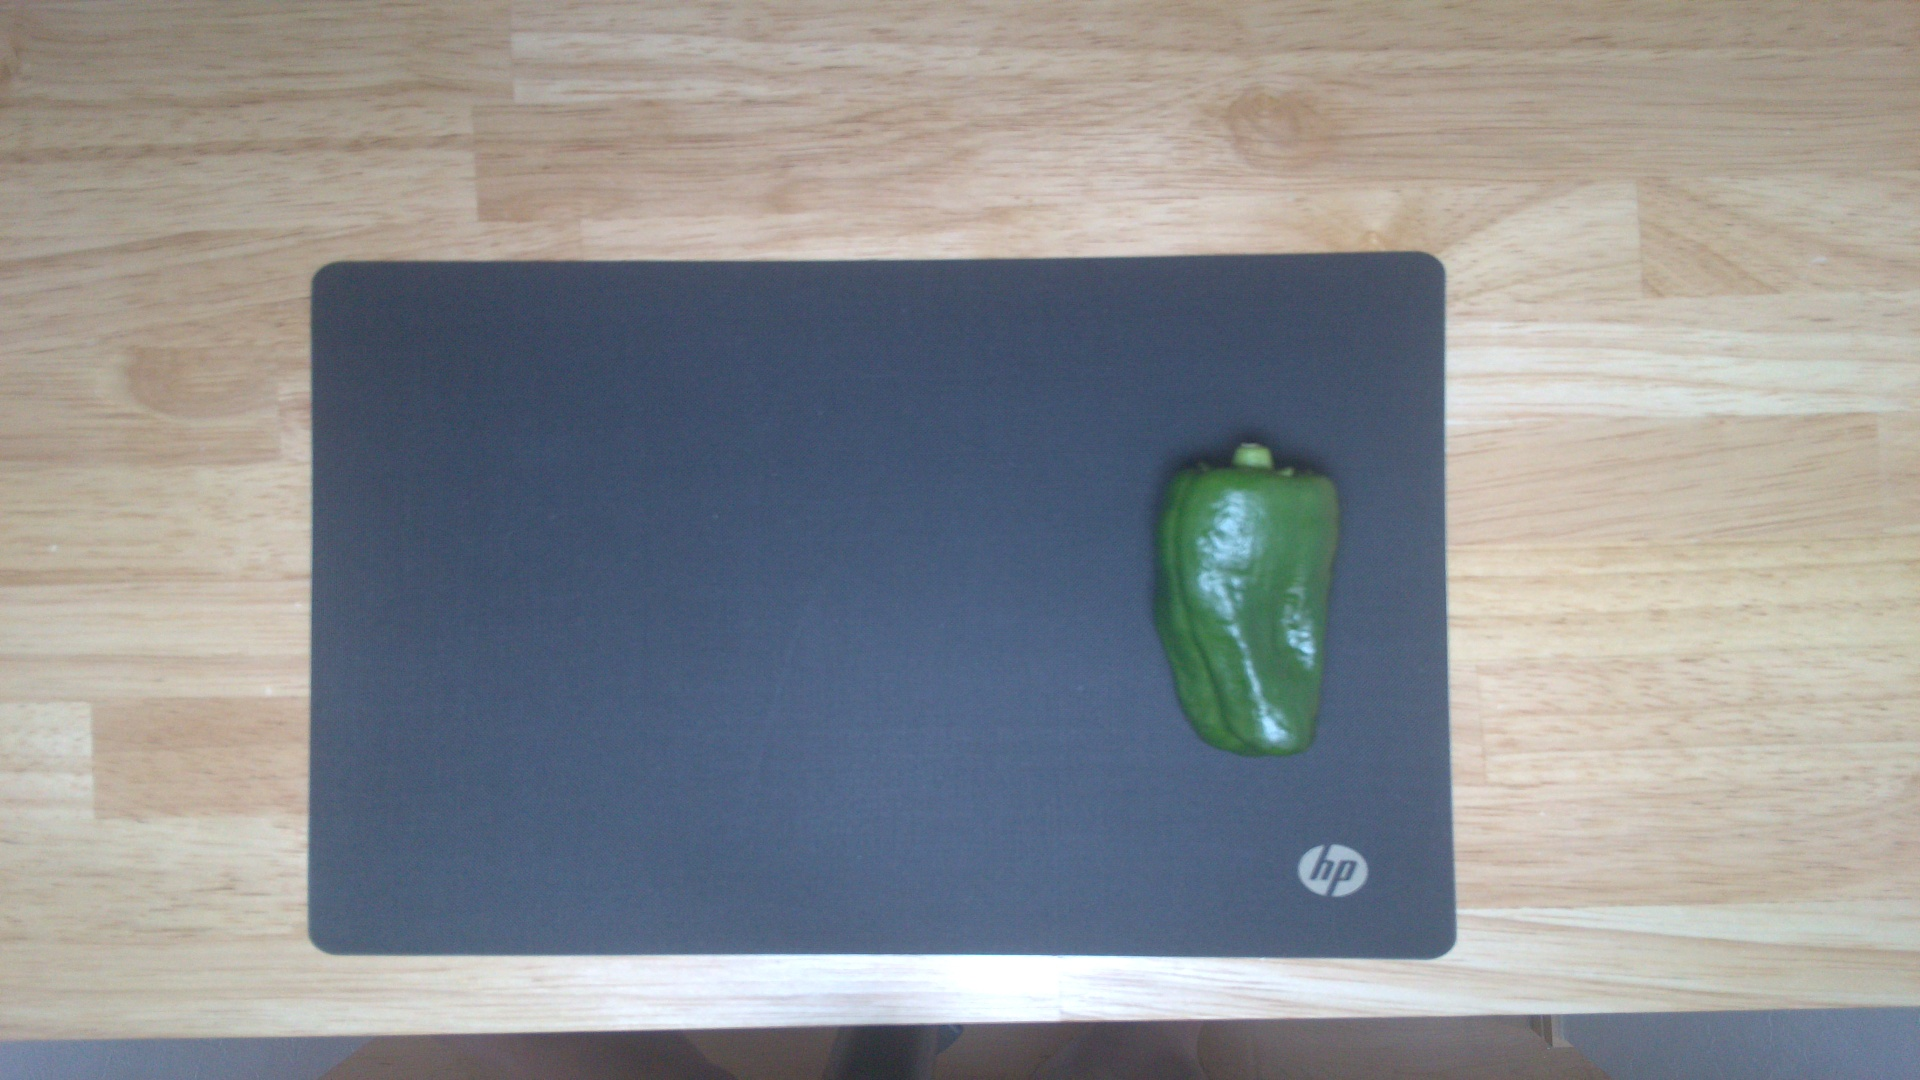Piman: (1153, 444, 1342, 760)
